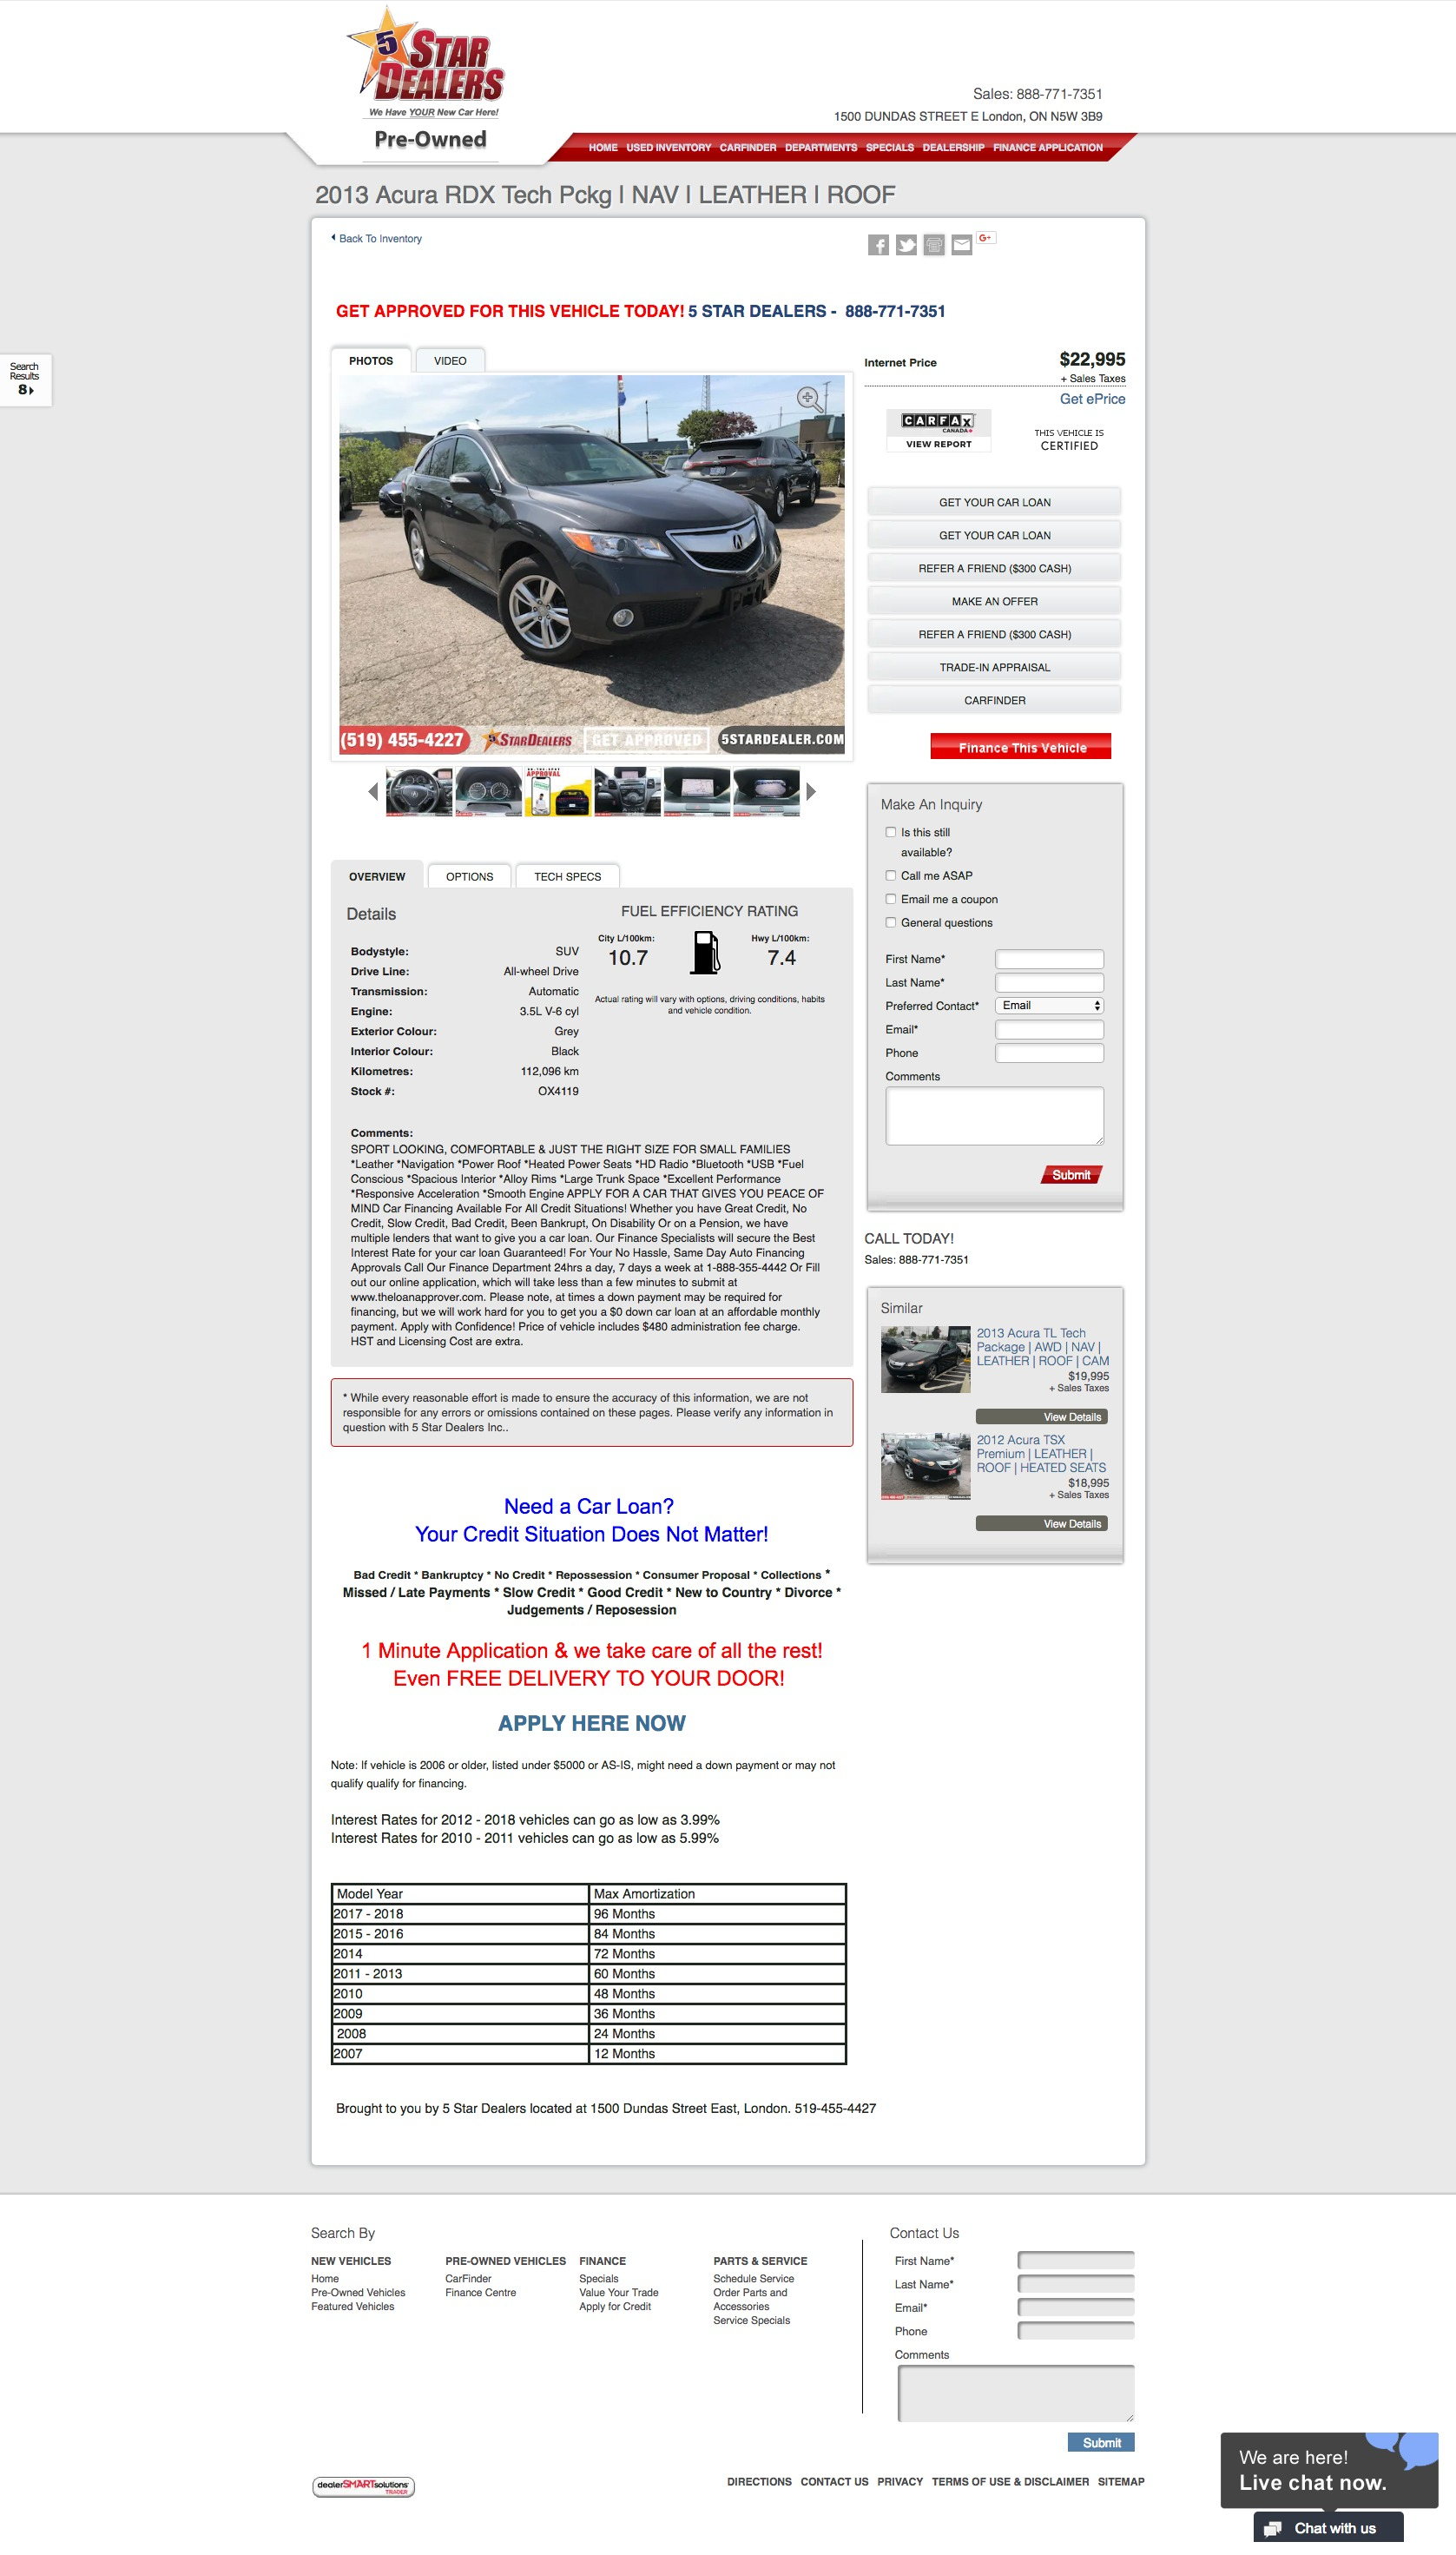car: (805, 781, 817, 804)
